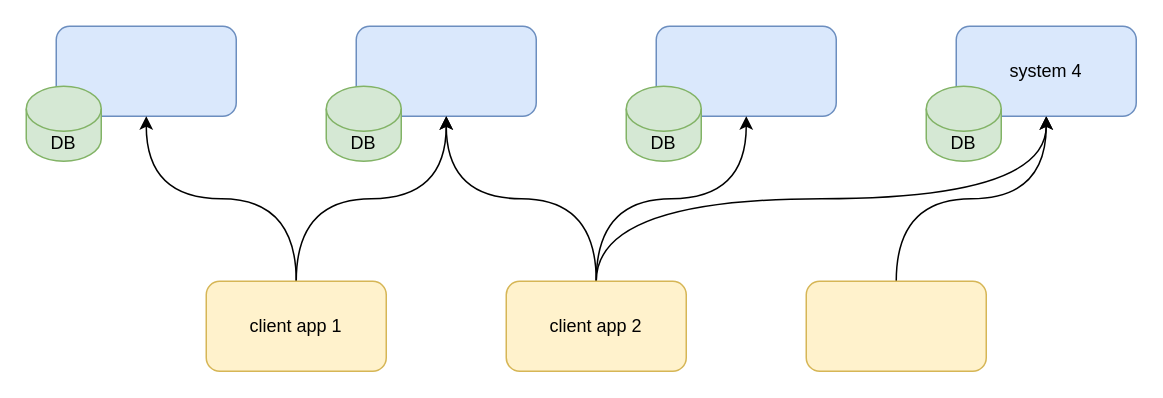
Image size: 1163x398. Some labels were removed from this diagram. The shapes that lost their labels are listed below. From the top down, each one's box as (x1, y1, x2, y2) in pixels, then its label:
(55, 25, 236, 116): system 1
(355, 25, 536, 116): system 2
(655, 25, 836, 116): system 3
(805, 280, 986, 371): client app 3
